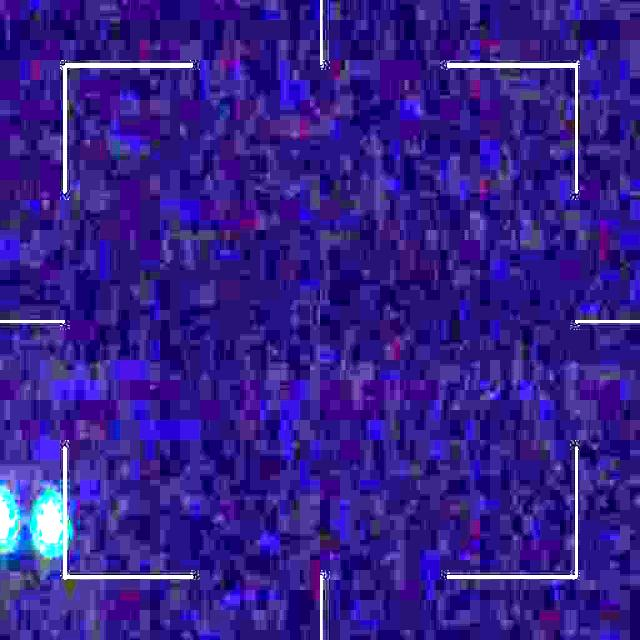bird: (0, 494, 64, 545)
